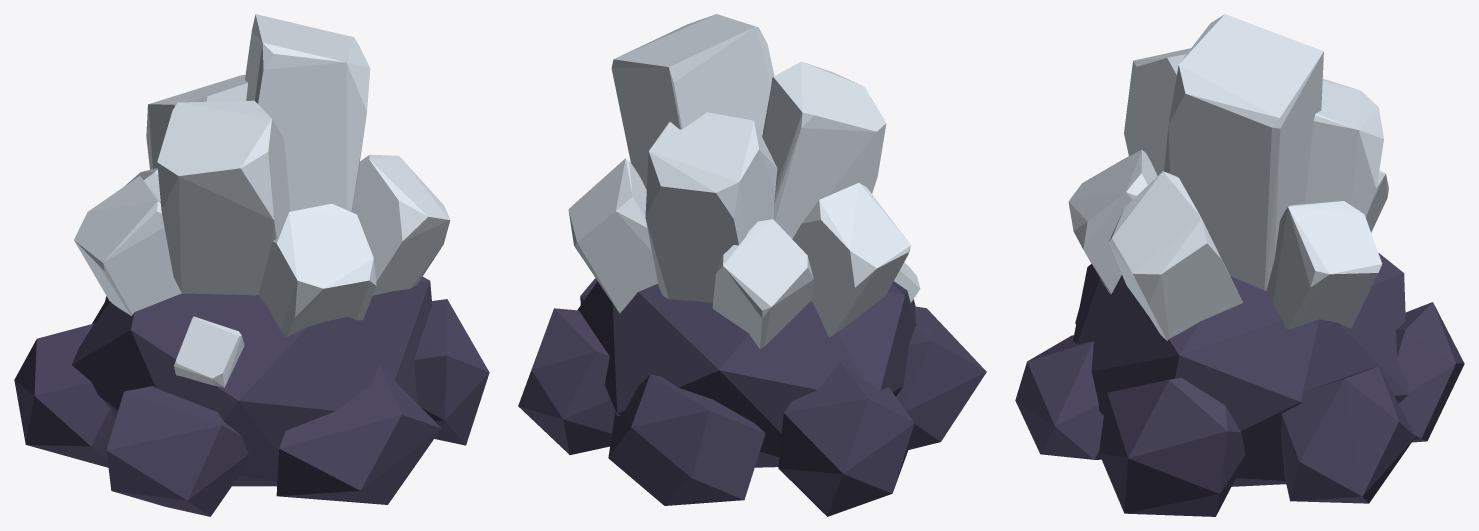
The model's file is Ore_Silver.fbx.
3 views of the same model, side by side, from view 1: azimuth 30°, elevation 25°; view 2: azimuth 150°, elevation 25°; view 3: azimuth 270°, elevation 25° (orthographic). The views are drawn at different scales.
Visible parts, largest first — view 1: Ore_Rock, Ore_Crystal; view 2: Ore_Crystal, Ore_Rock; view 3: Ore_Rock, Ore_Crystal.
Part boxes in pixels (<box>): Ore_Rock: <box>14,276,489,516</box>; Ore_Crystal: <box>74,14,450,387</box>; Ore_Crystal: <box>568,14,920,348</box>; Ore_Rock: <box>518,278,986,516</box>; Ore_Rock: <box>1015,253,1464,516</box>; Ore_Crystal: <box>1068,14,1388,340</box>.
Size of the model in its own units: 1.85 by 2 by 1.85.
